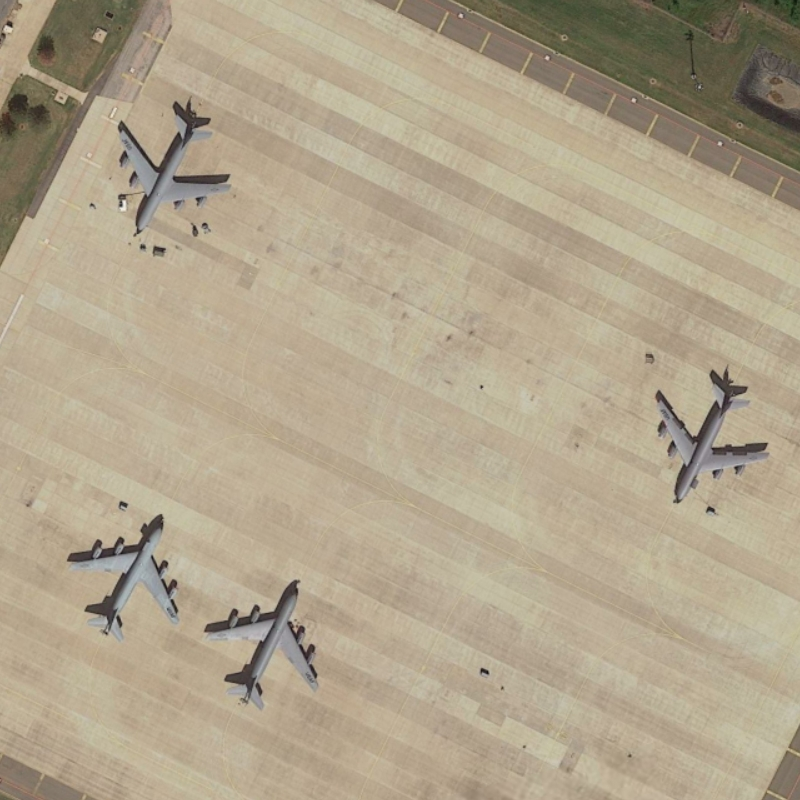A14: (643, 363, 776, 516), (104, 100, 243, 242), (56, 505, 192, 647), (197, 574, 329, 711)
